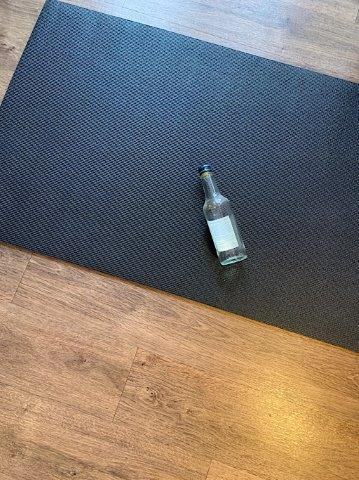botolkaca: (199, 165, 246, 264)
